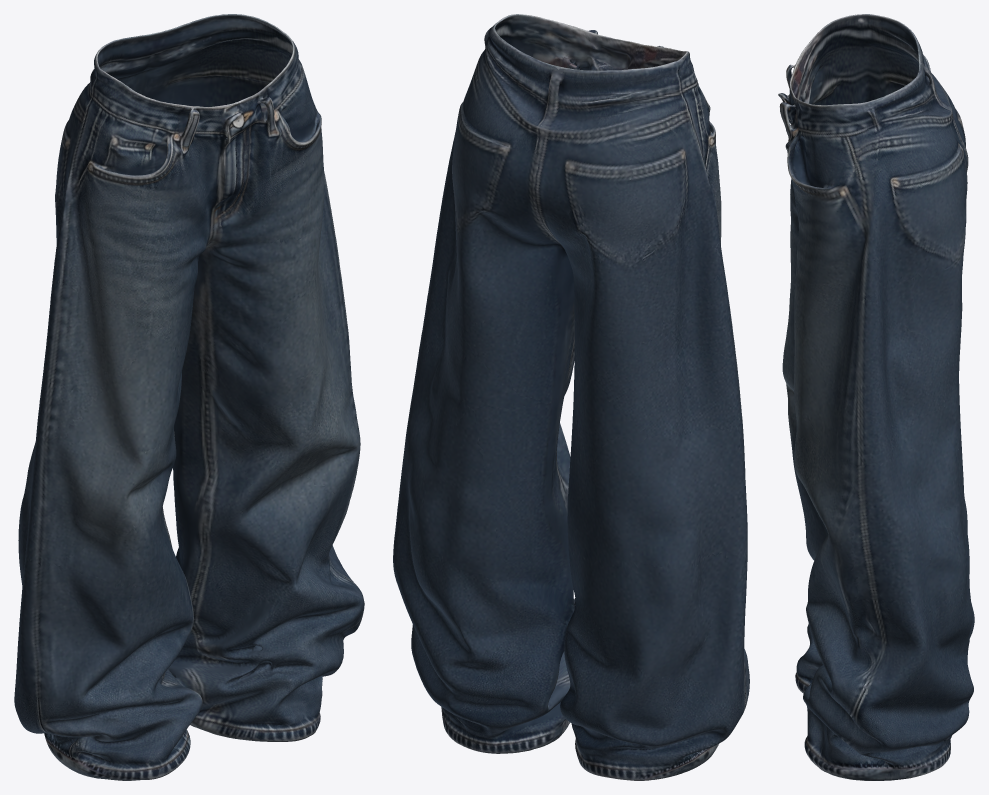
File: Meshy_AI_Wide_Leg_Blue_Jeans_1022111857_texture.glb
The picture shows the model from 3 angles, left to right: view 1: azimuth 30°, elevation 25°; view 2: azimuth 150°, elevation 25°; view 3: azimuth 270°, elevation 25°; orthographic projection. The views are drawn at different scales.
Size of the model in its own units: 0.9532 by 1.9 by 0.5053.
Materials: 1 (1 with a texture image).
